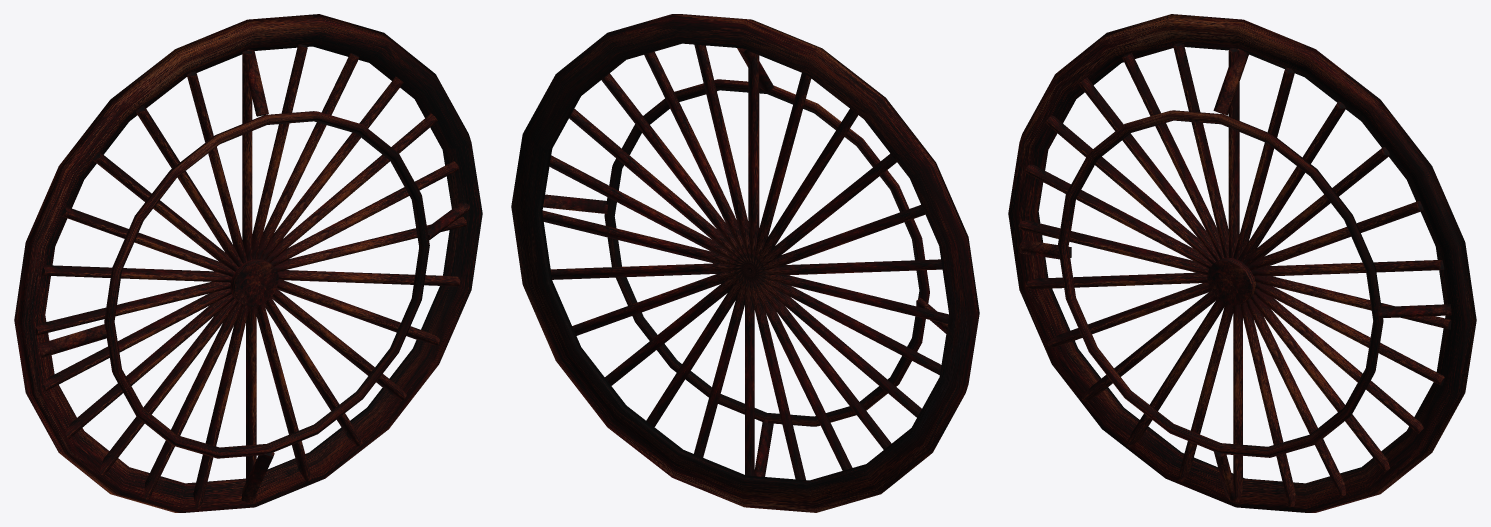
File: L_wheel.fbx
The picture shows the model from 3 angles, left to right: view 1: azimuth 30°, elevation 25°; view 2: azimuth 150°, elevation 25°; view 3: azimuth 330°, elevation 25°; orthographic projection.
Visible parts, largest first — view 1: pTorus1, pTorus5, pasted__pCylinder27, pasted__pCylinder28, pasted__pCylinder45, pasted__pCylinder79, pasted__pCylinder46, pasted__pCylinder81, pasted__pCylinder43, pasted__pCylinder37, pasted__pCylinder16, pasted__pCylinder30 (+19 smaller); view 2: pTorus1, pTorus5, pasted__pCylinder79, pasted__pCylinder81, pasted__pCylinder16, pasted__pCylinder37, pasted__pCylinder17, pasted__pCylinder36, pasted__pCylinder87, pasted__pCylinder27, pasted__pCylinder45, pasted__pCylinder28 (+16 smaller); view 3: pTorus1, pTorus5, pasted__pCylinder89, pasted__pCylinder51, pasted__pCylinder84, pasted__pCylinder32, pasted__pCylinder74, pasted__pCylinder83, pasted__pCylinder77, pasted__pCylinder22, pasted__pCylinder72, pasted__pCylinder30 (+19 smaller).
Part boxes in pixels (bbox=[...]): pTorus1: bbox=[14, 14, 482, 512]; pTorus5: bbox=[104, 111, 429, 458]; pasted__pCylinder27: bbox=[100, 298, 238, 476]; pasted__pCylinder28: bbox=[65, 294, 234, 439]; pasted__pCylinder45: bbox=[144, 302, 243, 499]; pasted__pCylinder79: bbox=[257, 53, 359, 258]; pasted__pCylinder46: bbox=[43, 288, 231, 390]; pasted__pCylinder81: bbox=[262, 76, 403, 260]; pasted__pCylinder43: bbox=[193, 304, 249, 508]; pasted__pCylinder37: bbox=[252, 44, 307, 259]; pasted__pCylinder16: bbox=[266, 113, 437, 262]; pasted__pCylinder30: bbox=[35, 281, 230, 335]; pTorus1: bbox=[511, 14, 979, 512]; pTorus5: bbox=[604, 79, 929, 426]; pasted__pCylinder79: bbox=[644, 51, 756, 276]; pasted__pCylinder81: bbox=[601, 73, 757, 275]; pasted__pCylinder16: bbox=[569, 109, 757, 273]; pasted__pCylinder37: bbox=[694, 44, 755, 278]; pasted__pCylinder17: bbox=[549, 155, 757, 271]; pasted__pCylinder36: bbox=[748, 53, 759, 278]; pasted__pCylinder87: bbox=[542, 210, 756, 269]; pasted__pCylinder27: bbox=[742, 266, 891, 449]; pasted__pCylinder45: bbox=[743, 264, 852, 470]; pasted__pCylinder28: bbox=[741, 268, 921, 417]; pTorus1: bbox=[1008, 14, 1476, 512]; pTorus5: bbox=[1058, 110, 1383, 457]; pasted__pCylinder89: bbox=[1122, 53, 1223, 259]; pasted__pCylinder51: bbox=[1078, 77, 1219, 261]; pasted__pCylinder84: bbox=[1173, 43, 1228, 257]; pasted__pCylinder32: bbox=[1045, 115, 1215, 264]; pasted__pCylinder74: bbox=[1025, 164, 1212, 268]; pasted__pCylinder83: bbox=[1250, 294, 1389, 472]; pasted__pCylinder77: bbox=[1253, 289, 1423, 434]; pasted__pCylinder22: bbox=[1245, 299, 1345, 497]; pasted__pCylinder72: bbox=[1255, 282, 1444, 385]; pasted__pCylinder30: bbox=[1018, 220, 1208, 275].
Size of the model in its own units: 4.21 by 4.21 by 0.4486.
